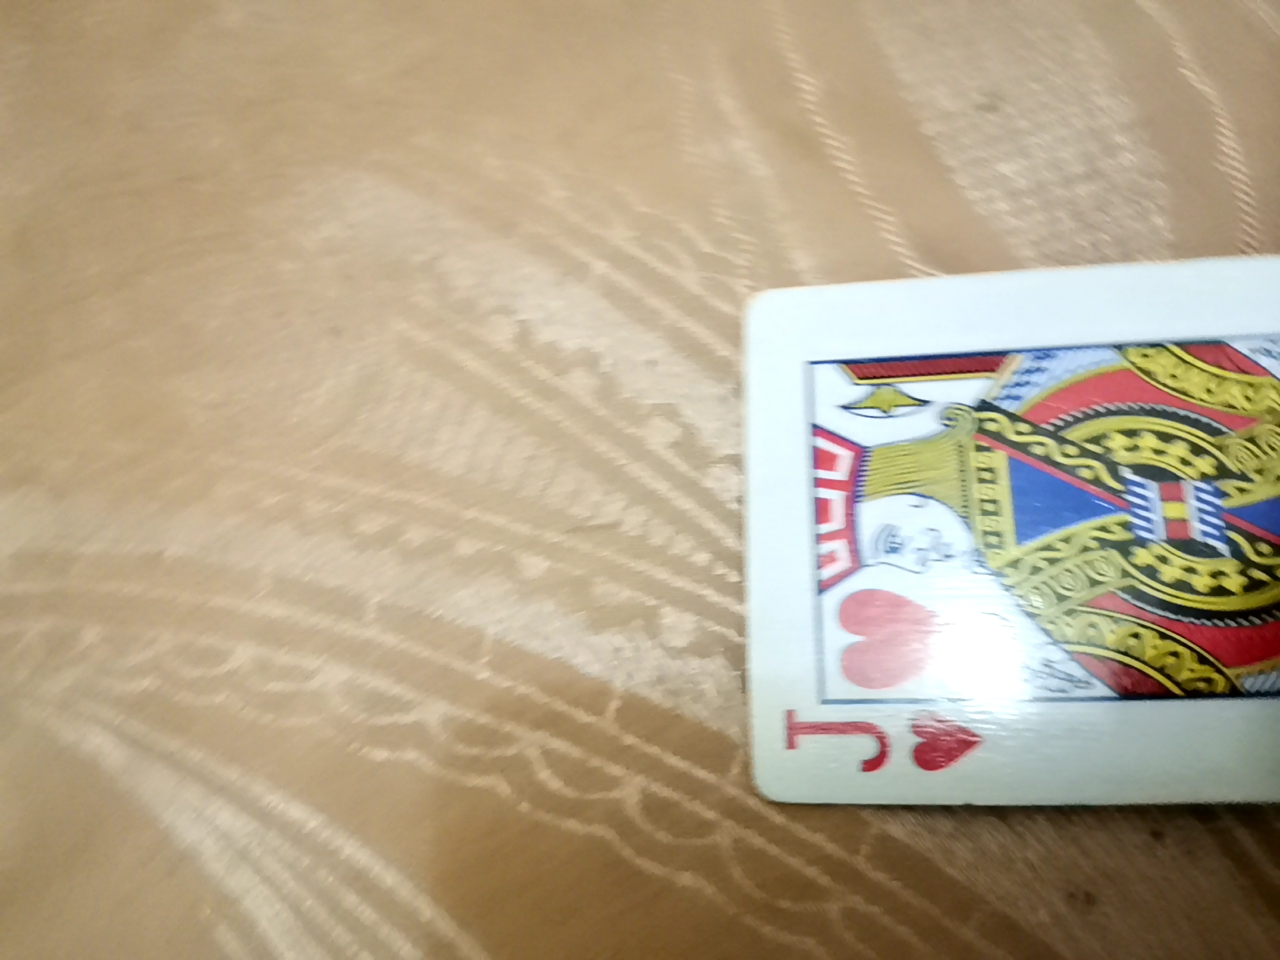hx j: (786, 317, 1280, 870)
